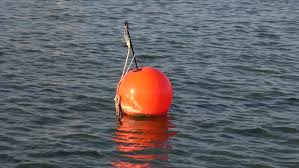buoy: (117, 68, 174, 115)
